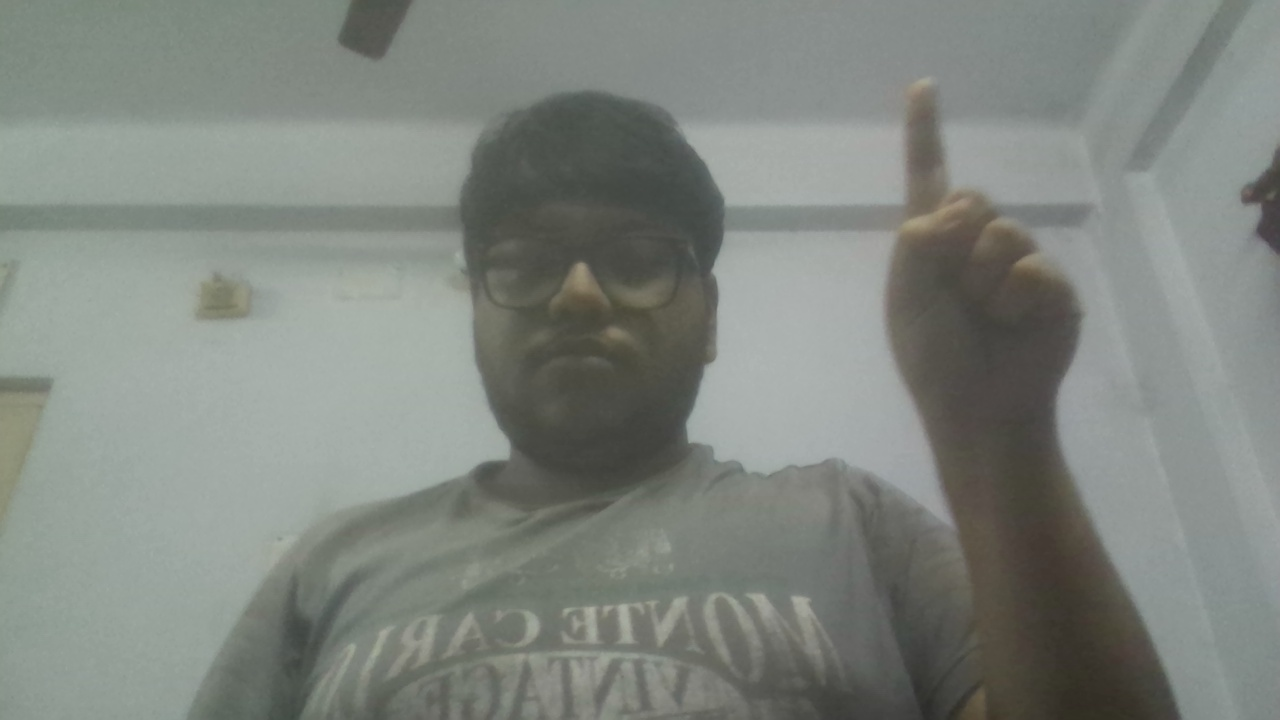Gesture1: (870, 69, 1099, 453)
